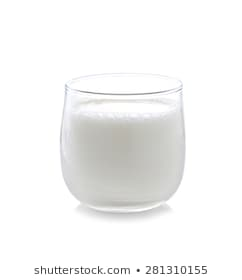glass of milk: (68, 84, 174, 207)
